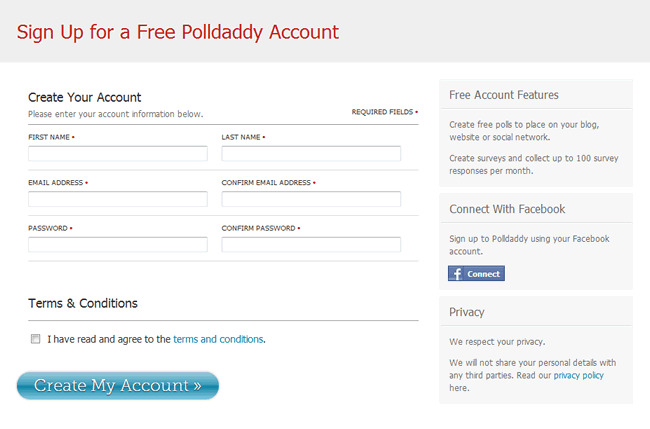_form_: (212, 80, 630, 429), (1, 80, 417, 429)
button: (17, 371, 219, 400), (448, 265, 506, 281)
checkbox: (30, 332, 41, 344)
checkbox_with_label: (27, 330, 265, 345)
field: (23, 234, 208, 253), (220, 189, 403, 208), (221, 143, 402, 162), (222, 235, 402, 254), (25, 144, 209, 162), (24, 190, 208, 207)
field_with_label: (23, 132, 210, 164), (21, 224, 209, 255), (218, 178, 404, 209), (219, 225, 403, 256), (219, 132, 402, 163), (22, 179, 210, 209)
